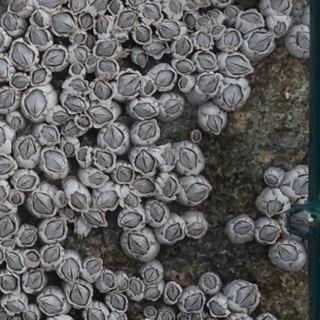Barnacle: (24, 91, 47, 119), (10, 43, 34, 68), (225, 55, 251, 77), (32, 192, 54, 216), (235, 285, 257, 309), (247, 31, 272, 52), (50, 13, 74, 34), (118, 73, 139, 97), (103, 125, 123, 150), (134, 149, 154, 174), (185, 182, 210, 202), (177, 148, 199, 170), (43, 219, 65, 241), (292, 175, 315, 196), (69, 283, 90, 306), (94, 190, 119, 209), (39, 295, 64, 314), (43, 152, 65, 173), (127, 233, 149, 254), (277, 244, 301, 263), (95, 40, 118, 59), (197, 75, 220, 94), (223, 84, 241, 108), (93, 80, 112, 102), (138, 119, 156, 142), (120, 211, 143, 229), (88, 108, 113, 124), (157, 23, 180, 40), (61, 259, 78, 282), (185, 292, 204, 312), (196, 51, 217, 69), (160, 177, 178, 198), (18, 139, 35, 161), (0, 215, 16, 238), (44, 49, 64, 67), (93, 151, 113, 169), (68, 77, 89, 94), (259, 224, 278, 242), (295, 31, 312, 51), (16, 175, 37, 191), (0, 88, 15, 110), (133, 103, 155, 118), (30, 29, 48, 47), (222, 31, 240, 49), (18, 227, 35, 246), (43, 246, 60, 265), (25, 271, 42, 290), (240, 11, 263, 25), (154, 71, 174, 87), (64, 97, 85, 112), (133, 179, 154, 194), (142, 4, 160, 21), (118, 12, 136, 29), (63, 119, 80, 137), (40, 126, 58, 143), (6, 251, 22, 270), (2, 11, 17, 31), (83, 211, 103, 226), (150, 203, 164, 224), (164, 99, 181, 116), (205, 115, 222, 132), (115, 167, 133, 183), (70, 192, 86, 210), (270, 0, 289, 15), (145, 42, 165, 56), (86, 258, 102, 275), (0, 275, 17, 291), (195, 31, 210, 49), (175, 39, 190, 57), (110, 293, 125, 311), (174, 61, 193, 75), (0, 156, 13, 176), (165, 224, 181, 240), (52, 110, 69, 125), (98, 61, 116, 75), (161, 149, 175, 167), (32, 68, 47, 84), (123, 194, 138, 210), (209, 301, 225, 316), (11, 75, 28, 89), (265, 201, 282, 215), (4, 301, 25, 312), (202, 275, 217, 290), (136, 27, 150, 43), (73, 47, 87, 63), (187, 222, 203, 236), (144, 267, 158, 283), (9, 0, 26, 13), (90, 0, 107, 13), (95, 17, 108, 34), (235, 222, 252, 235), (102, 272, 115, 289), (71, 0, 86, 14), (32, 13, 45, 29), (90, 172, 106, 185), (130, 280, 143, 296), (166, 285, 178, 302), (87, 308, 105, 319), (168, 0, 182, 14), (80, 14, 93, 29), (273, 22, 286, 37), (185, 0, 200, 12), (108, 0, 120, 15), (77, 147, 88, 162), (145, 287, 160, 298), (143, 80, 153, 96), (64, 208, 76, 221), (11, 191, 22, 205), (26, 252, 40, 263), (118, 276, 128, 291), (70, 64, 82, 76), (225, 7, 236, 20), (136, 54, 146, 68), (184, 15, 195, 27), (11, 117, 21, 130), (63, 143, 73, 156), (265, 176, 279, 185), (177, 77, 187, 89), (78, 118, 90, 128), (0, 205, 13, 214), (85, 36, 93, 50), (211, 26, 222, 36), (1, 241, 14, 249), (160, 311, 173, 319), (24, 312, 37, 319), (207, 10, 217, 19), (87, 57, 97, 66), (193, 131, 200, 143), (58, 193, 65, 205), (146, 308, 155, 317), (197, 18, 207, 26), (0, 312, 9, 319), (191, 314, 201, 319), (178, 315, 190, 319)
